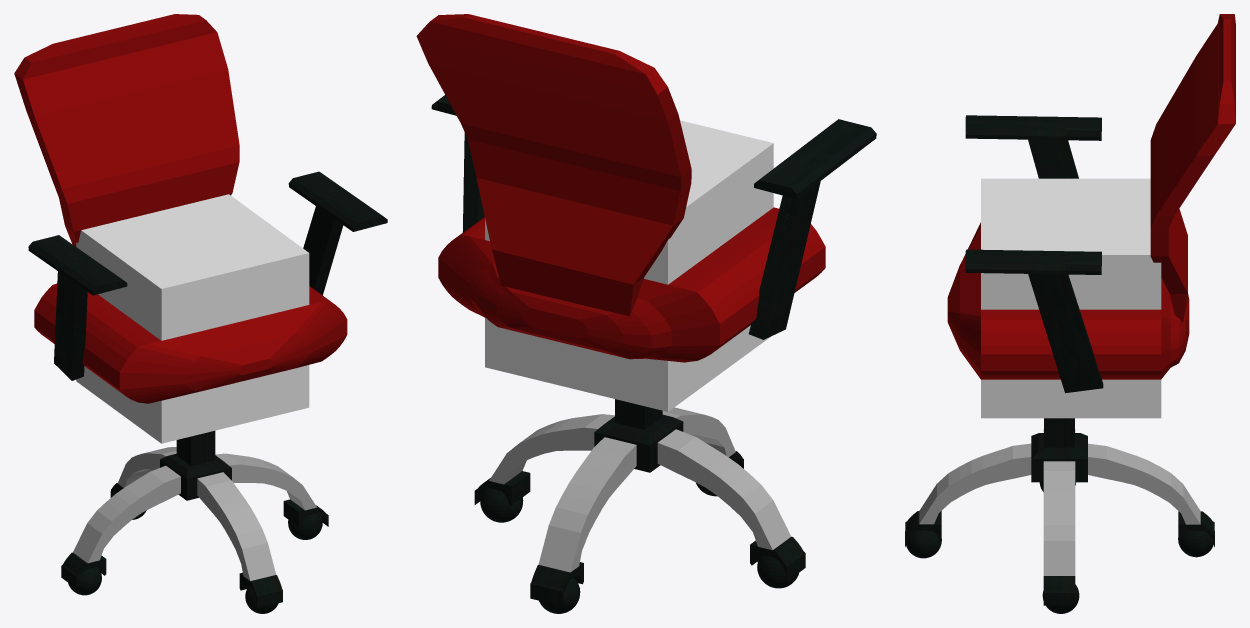
File: Office Chair.fbx
The picture shows the model from 3 angles, left to right: view 1: azimuth 30°, elevation 25°; view 2: azimuth 150°, elevation 25°; view 3: azimuth 270°, elevation 25°; orthographic projection. The views are drawn at different scales.
Parts seen in each view (by area): view 1: Back Rest, Cube.002, Cushion Seat, Arm Rest Left, Arm Rest Right, Feet 3, Feet 2, Leg, Feet 1, Feet 4, Wheel Support 3, Wheel Support 2 (+3 smaller); view 2: Back Rest, Cushion Seat, Cube.002, Arm Rest Left, Feet 4, Feet 2, Feet 1, Leg, Feet 3, Arm Rest Right, Wheel Support 4, Wheel Support 2 (+4 smaller); view 3: Cube.002, Cushion Seat, Back Rest, Arm Rest Right, Arm Rest Left, Feet 1, Feet 4, Feet 3, Leg, Wheel Support 1, Wheel 3, Wheel 4 (+2 smaller).
Boxes of the visible parts, <box> form: Back Rest: <box>14,14,239,246</box>; Cube.002: <box>76,194,309,443</box>; Cushion Seat: <box>34,283,347,403</box>; Arm Rest Left: <box>28,235,127,380</box>; Arm Rest Right: <box>288,171,387,295</box>; Feet 3: <box>197,472,276,580</box>; Feet 2: <box>73,465,180,563</box>; Leg: <box>160,431,231,500</box>; Feet 1: <box>215,453,316,510</box>; Feet 4: <box>117,447,176,487</box>; Wheel Support 3: <box>239,572,282,608</box>; Wheel Support 2: <box>61,552,106,588</box>; Back Rest: <box>416,14,691,316</box>; Cushion Seat: <box>438,207,825,362</box>; Cube.002: <box>485,120,773,411</box>; Arm Rest Left: <box>748,119,876,339</box>; Feet 4: <box>538,437,636,572</box>; Feet 2: <box>657,429,791,550</box>; Feet 1: <box>489,414,614,484</box>; Leg: <box>594,399,683,472</box>; Feet 3: <box>662,407,735,457</box>; Arm Rest Right: <box>431,95,484,232</box>; Wheel Support 4: <box>530,562,583,606</box>; Wheel Support 2: <box>750,536,805,580</box>; Cube.002: <box>981,178,1161,418</box>; Cushion Seat: <box>947,222,1189,379</box>; Back Rest: <box>1150,14,1235,322</box>; Arm Rest Right: <box>965,249,1103,393</box>; Arm Rest Left: <box>965,115,1101,178</box>; Feet 1: <box>1043,461,1075,575</box>; Feet 4: <box>1088,443,1200,524</box>; Feet 3: <box>919,443,1031,524</box>; Leg: <box>1031,418,1087,482</box>; Wheel Support 1: <box>1043,576,1075,605</box>; Wheel 3: <box>906,530,941,558</box>; Wheel 4: <box>1178,530,1213,557</box>.
Bounding box in the file's own units: 399 × 618 × 367.
